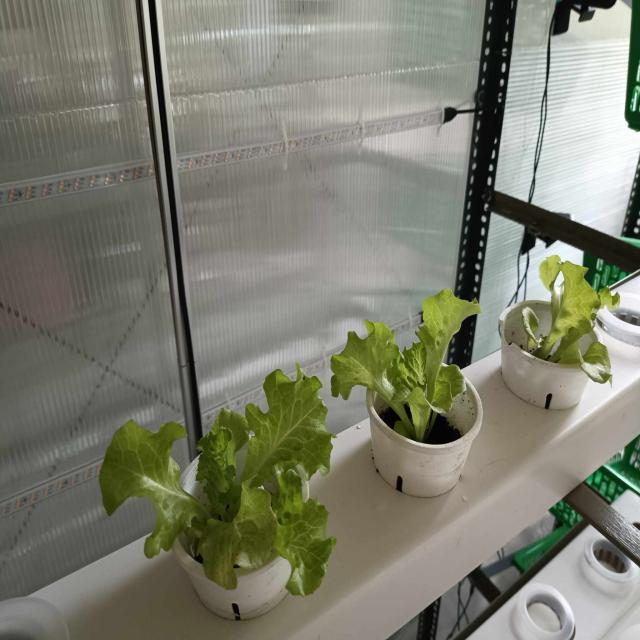Lettuce-Not-Ready-to-Harvest: (103, 366, 333, 606), (325, 283, 486, 460), (517, 248, 616, 402)
